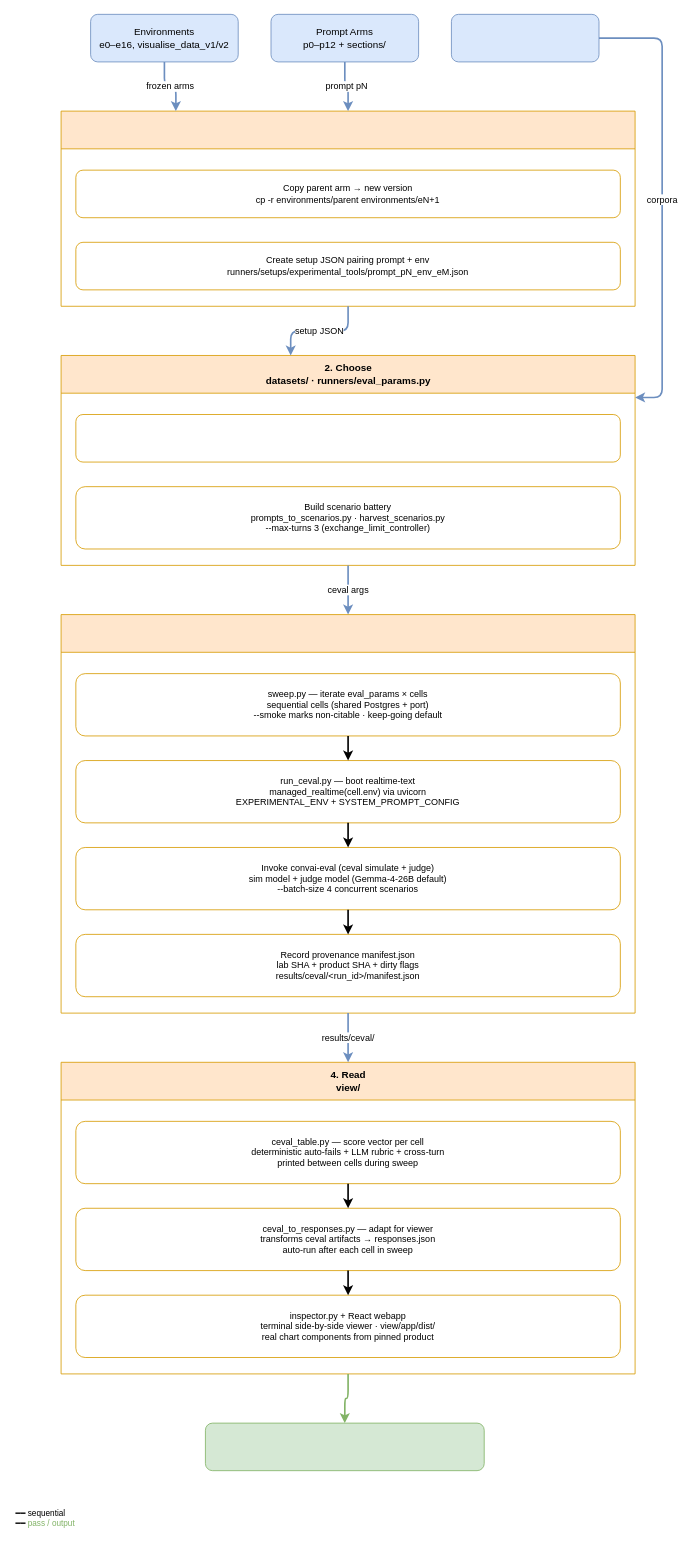
Image size: 691x1559. Some labels were removed from this diagram. Here are the shapes that lost their labels. From the top down, the box of each, then its label:
(451, 14, 599, 62): Datasets corpora/ · scenarios/
(60, 110, 635, 306): 1. Author environments/ · prompt_arms/
(75, 414, 620, 462): Select named eval params lab_prompts_hard / chart / guardrail / suite_full
(60, 614, 635, 1013): 3. Run runners/sweep.py
(205, 1422, 484, 1471): Evidence Outputs score vectors · responses.json · viewer app
